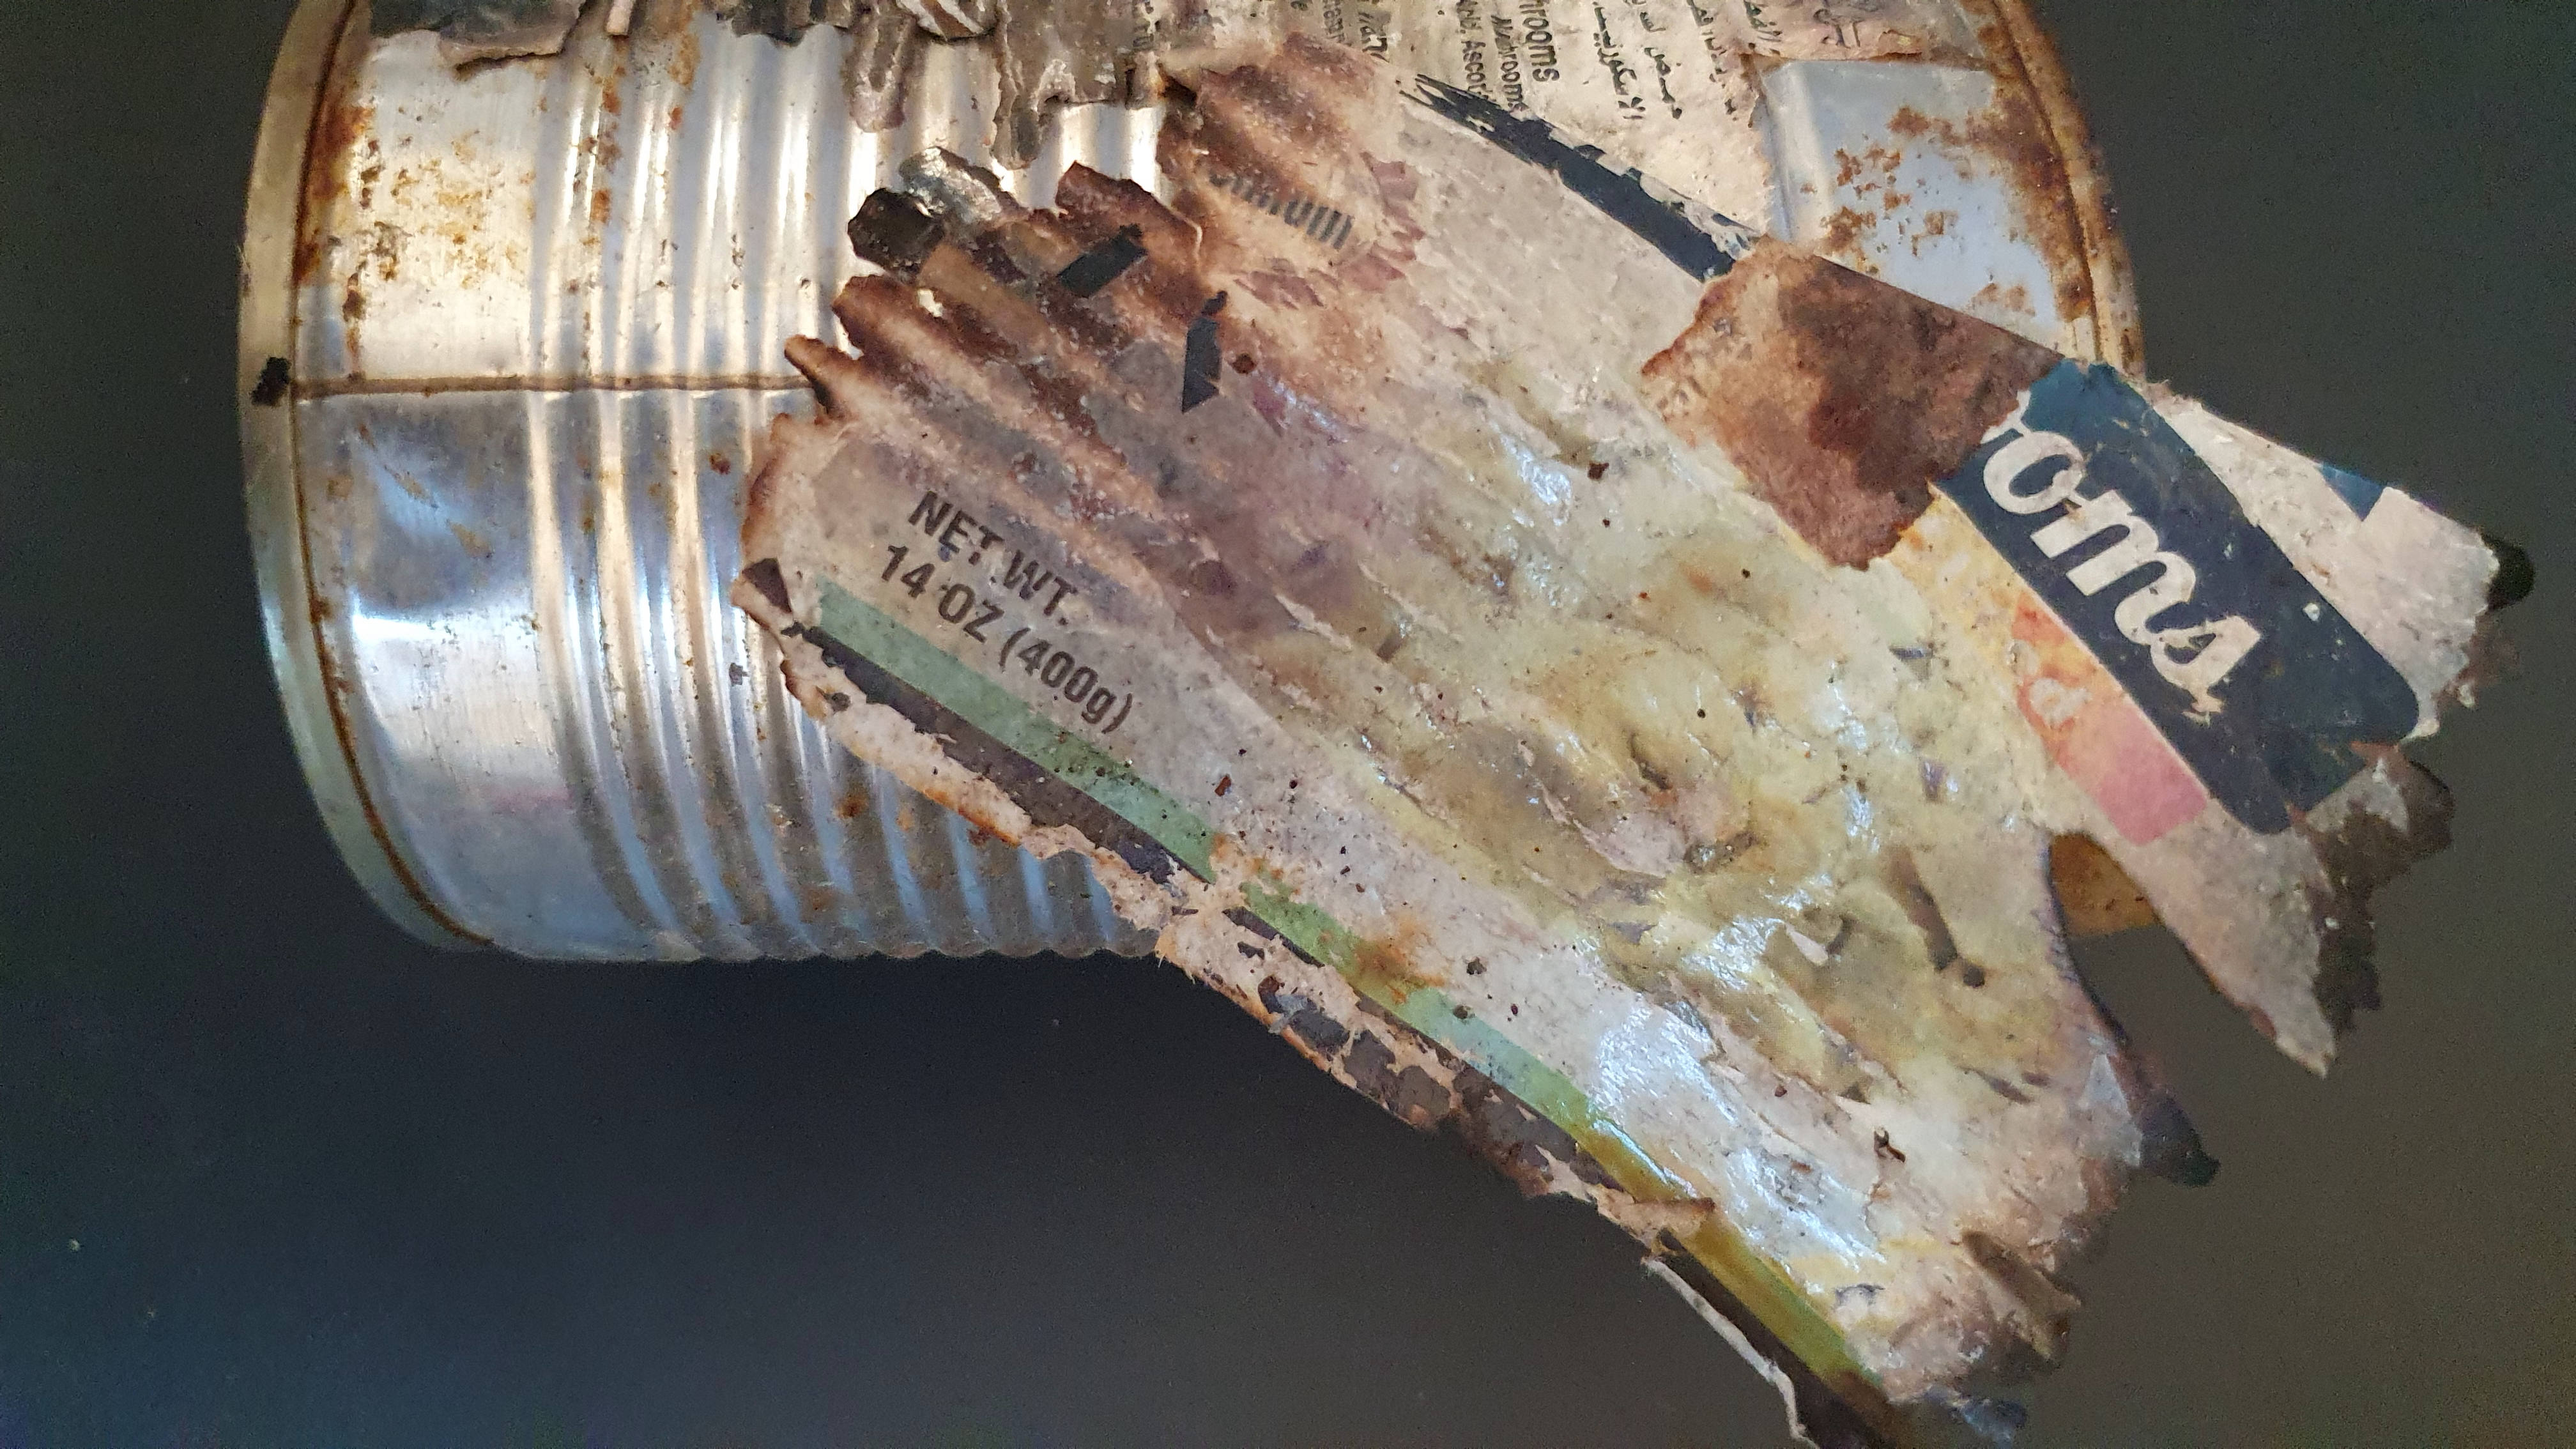metal: (207, 14, 2546, 1449)
